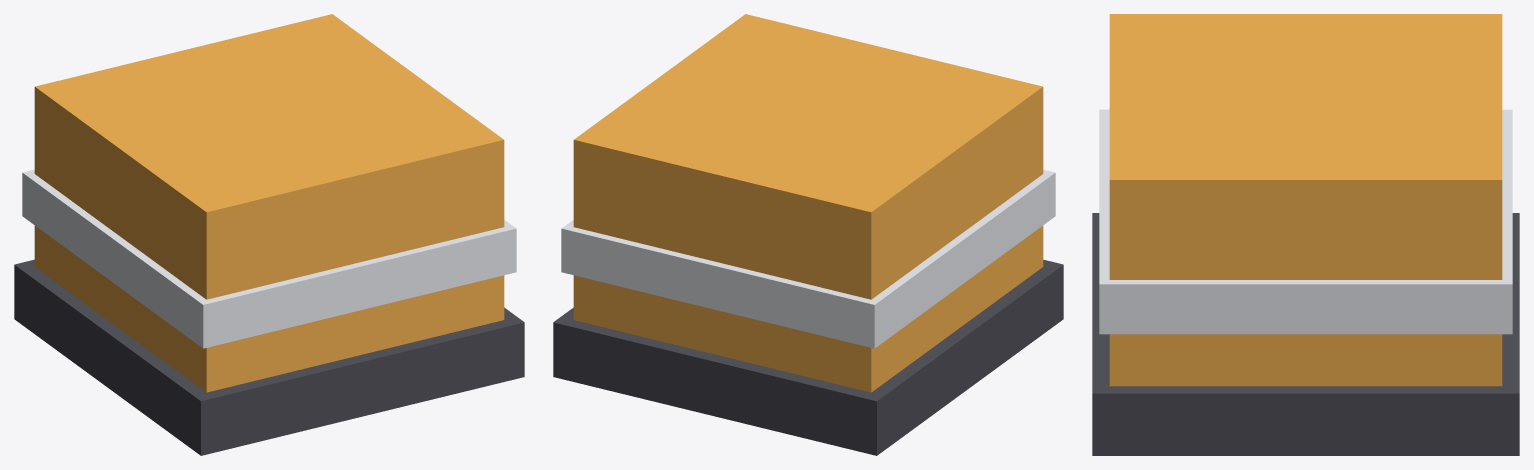
File: mecanico_espacial_manga_inf.glb
The picture shows the model from 3 angles, left to right: view 1: azimuth 30°, elevation 25°; view 2: azimuth 150°, elevation 25°; view 3: azimuth 270°, elevation 25°; orthographic projection. The views are drawn at different scales.
Visible parts, largest first — view 1: mecanico_espacial_manga_inf; view 2: mecanico_espacial_manga_inf; view 3: mecanico_espacial_manga_inf.
Boxes of the visible parts, x1=… form: mecanico_espacial_manga_inf: x1=14, y1=14, x2=524, y2=455; mecanico_espacial_manga_inf: x1=553, y1=14, x2=1063, y2=455; mecanico_espacial_manga_inf: x1=1092, y1=14, x2=1519, y2=455.
Bounding box in the file's own units: 0.31 × 0.215 × 0.31.
